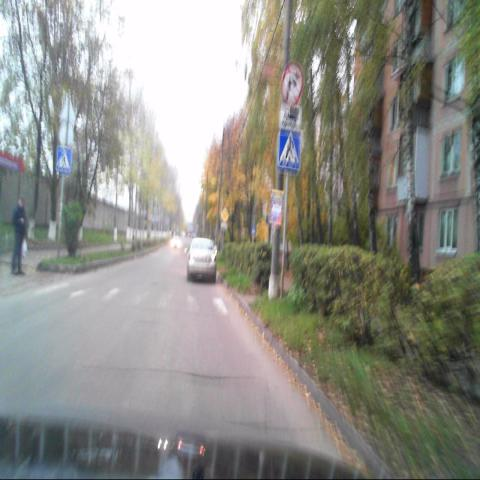8_4_1: (279, 107, 299, 128)
